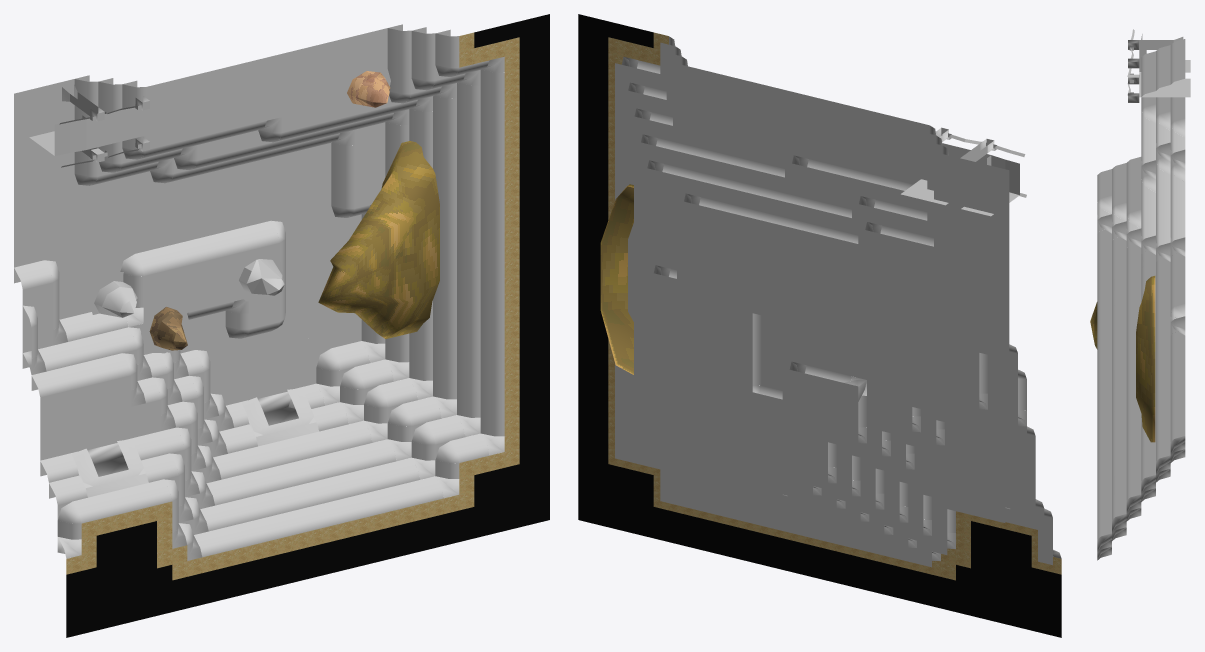
Rendered from Navel-Cave-West-1_01_01.obj.
3 views of the same model, side by side, from view 1: azimuth 30°, elevation 25°; view 2: azimuth 150°, elevation 25°; view 3: azimuth 270°, elevation 25° (orthographic). The views are drawn at different scales.
Visible parts, largest first — view 1: map; view 2: map; view 3: map.
Part boxes in pixels (x1,y1,x2,y2): map: (14,14,549,637); map: (578,14,1061,637); map: (1090,29,1190,560).
Size of the model in its own units: 32 by 32 by 6.86.
